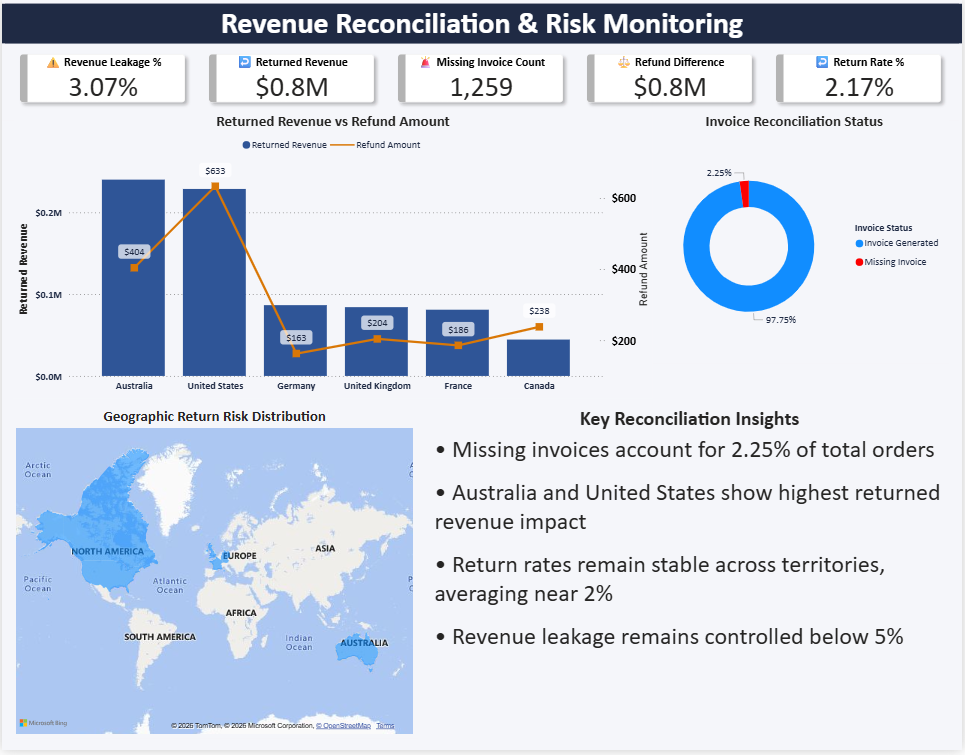

This screenshot's page, from the dashboard's own definition file:
{"tool":"powerbi","page":{"name":"Reconciliation & Risk Monitoring","canvas":[1280,1000],"ordinal":1},"visuals":[{"type":"cardVisual","fields":{"Data":["Sales.Revenue Leakage %","Sales.Returned Revenue","Sales.Missing Invoice Count","Sales.Refund Difference","Sales.Return Rate %"]},"box":[0,48.6,1280,112.9],"z":0},{"type":"textbox","title":"Revenue Reconciliation & Risk Monitoring","box":[0,5.7,1280,52.9],"z":1000},{"type":"donutChart","title":"Invoice Reconciliation Status","fields":{"Category":["Sales.Invoice Status"],"Y":["CountNonNull(Sales.OrderNumber)"]},"box":[850,148.6,412.9,335.7],"z":2000},{"type":"lineClusteredColumnComboChart","title":"Returned Revenue vs Refund Amount","fields":{"Category":["Territories.Country"],"Y":["Sales.Returned Revenue"],"Y2":["Sales.Refund Amount"]},"box":[14.3,148.6,852.9,382.9],"z":2001},{"type":"filledMap","title":"Geographic Return Risk Distribution","fields":{"Category":["Territories.Country"]},"box":[14,542,540,442],"z":2002},{"type":"textbox","title":"Key Reconciliation Insights","box":[572,542,690,442],"z":2003}]}

Visuals, with their boxes in screenshot pixels (x1, y1, x2, y2), scaled from the page's 1280x1000 canvas onto the 965x755 screenshot:
cardVisual - Sales.Revenue Leakage % x Sales.Returned Revenue: box=[0, 37, 964, 122]
"Revenue Reconciliation & Risk Monitoring" textbox: box=[0, 4, 964, 44]
"Invoice Reconciliation Status" donutChart: box=[641, 112, 952, 366]
"Returned Revenue vs Refund Amount" lineClusteredColumnComboChart: box=[11, 112, 654, 401]
"Geographic Return Risk Distribution" filledMap: box=[11, 409, 418, 743]
"Key Reconciliation Insights" textbox: box=[431, 409, 951, 743]
